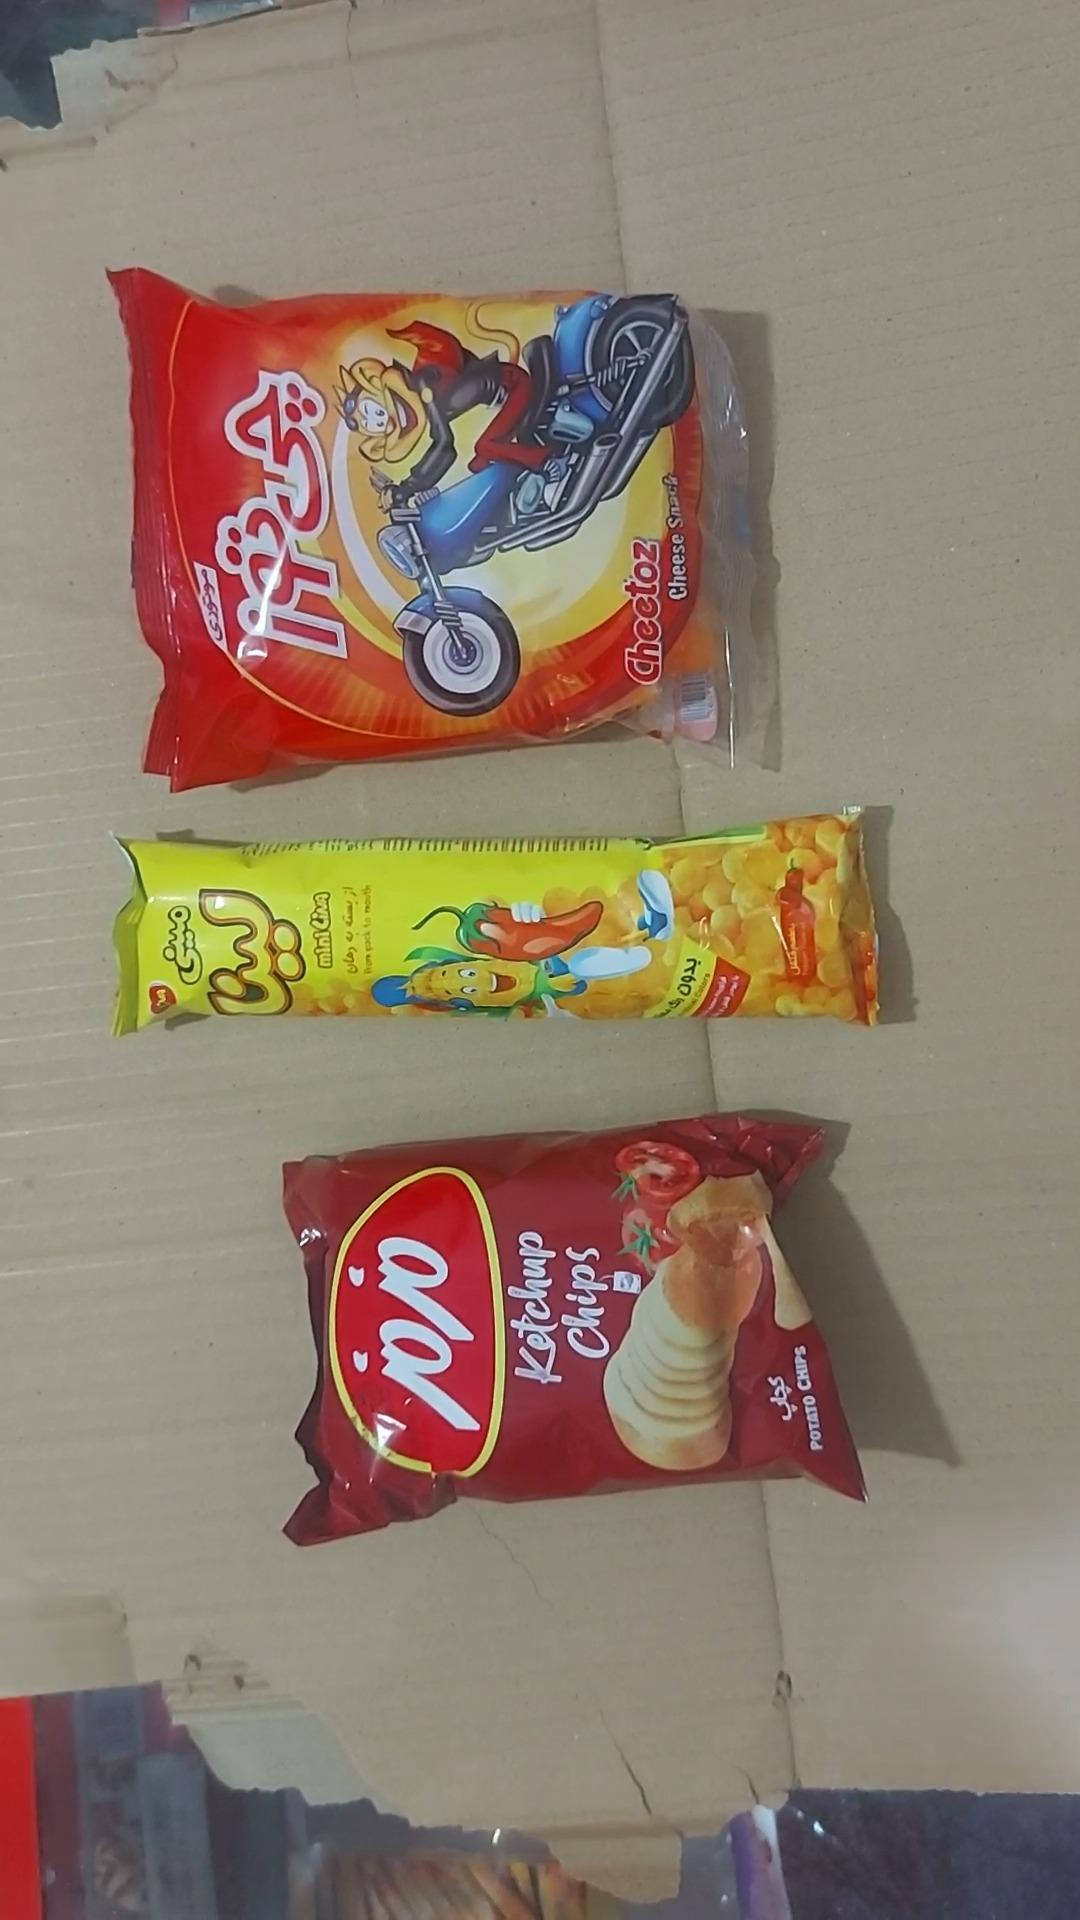Cheetoz snack 30g: (109, 269, 758, 791)
Maz Maz ketchup chips: (284, 1116, 865, 1545)
Mini Lina: (113, 808, 878, 1034)
